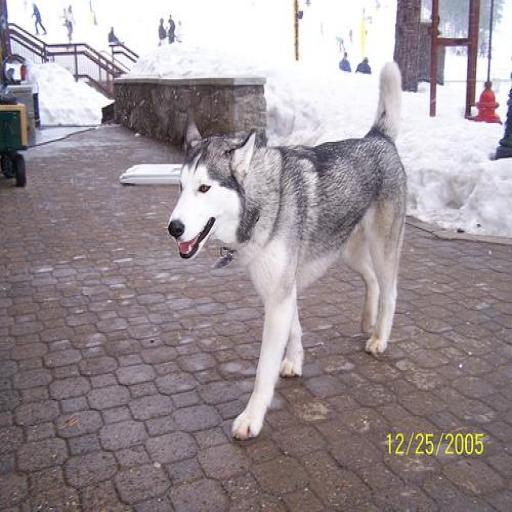dog_face: (172, 124, 254, 254)
